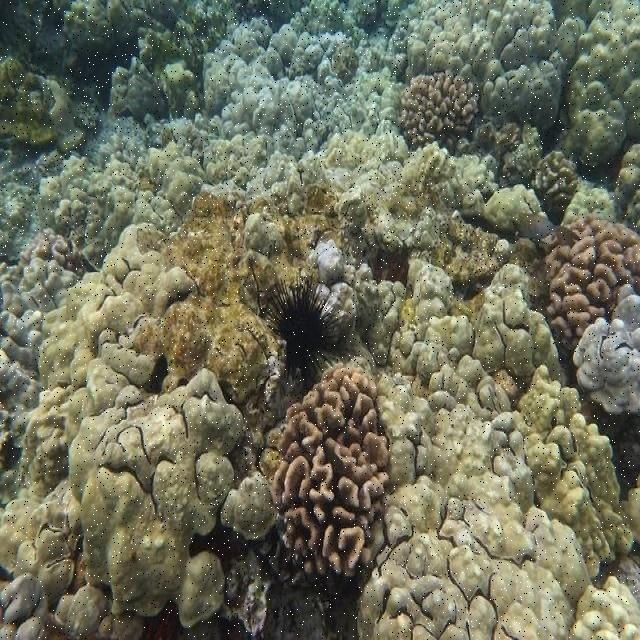aquatic plants: (269, 273, 348, 391)
reefs: (0, 130, 639, 639), (273, 370, 390, 576), (542, 219, 639, 352), (398, 69, 480, 148)
